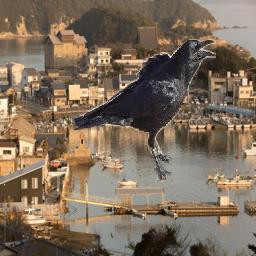Crow: (72, 38, 216, 182)
